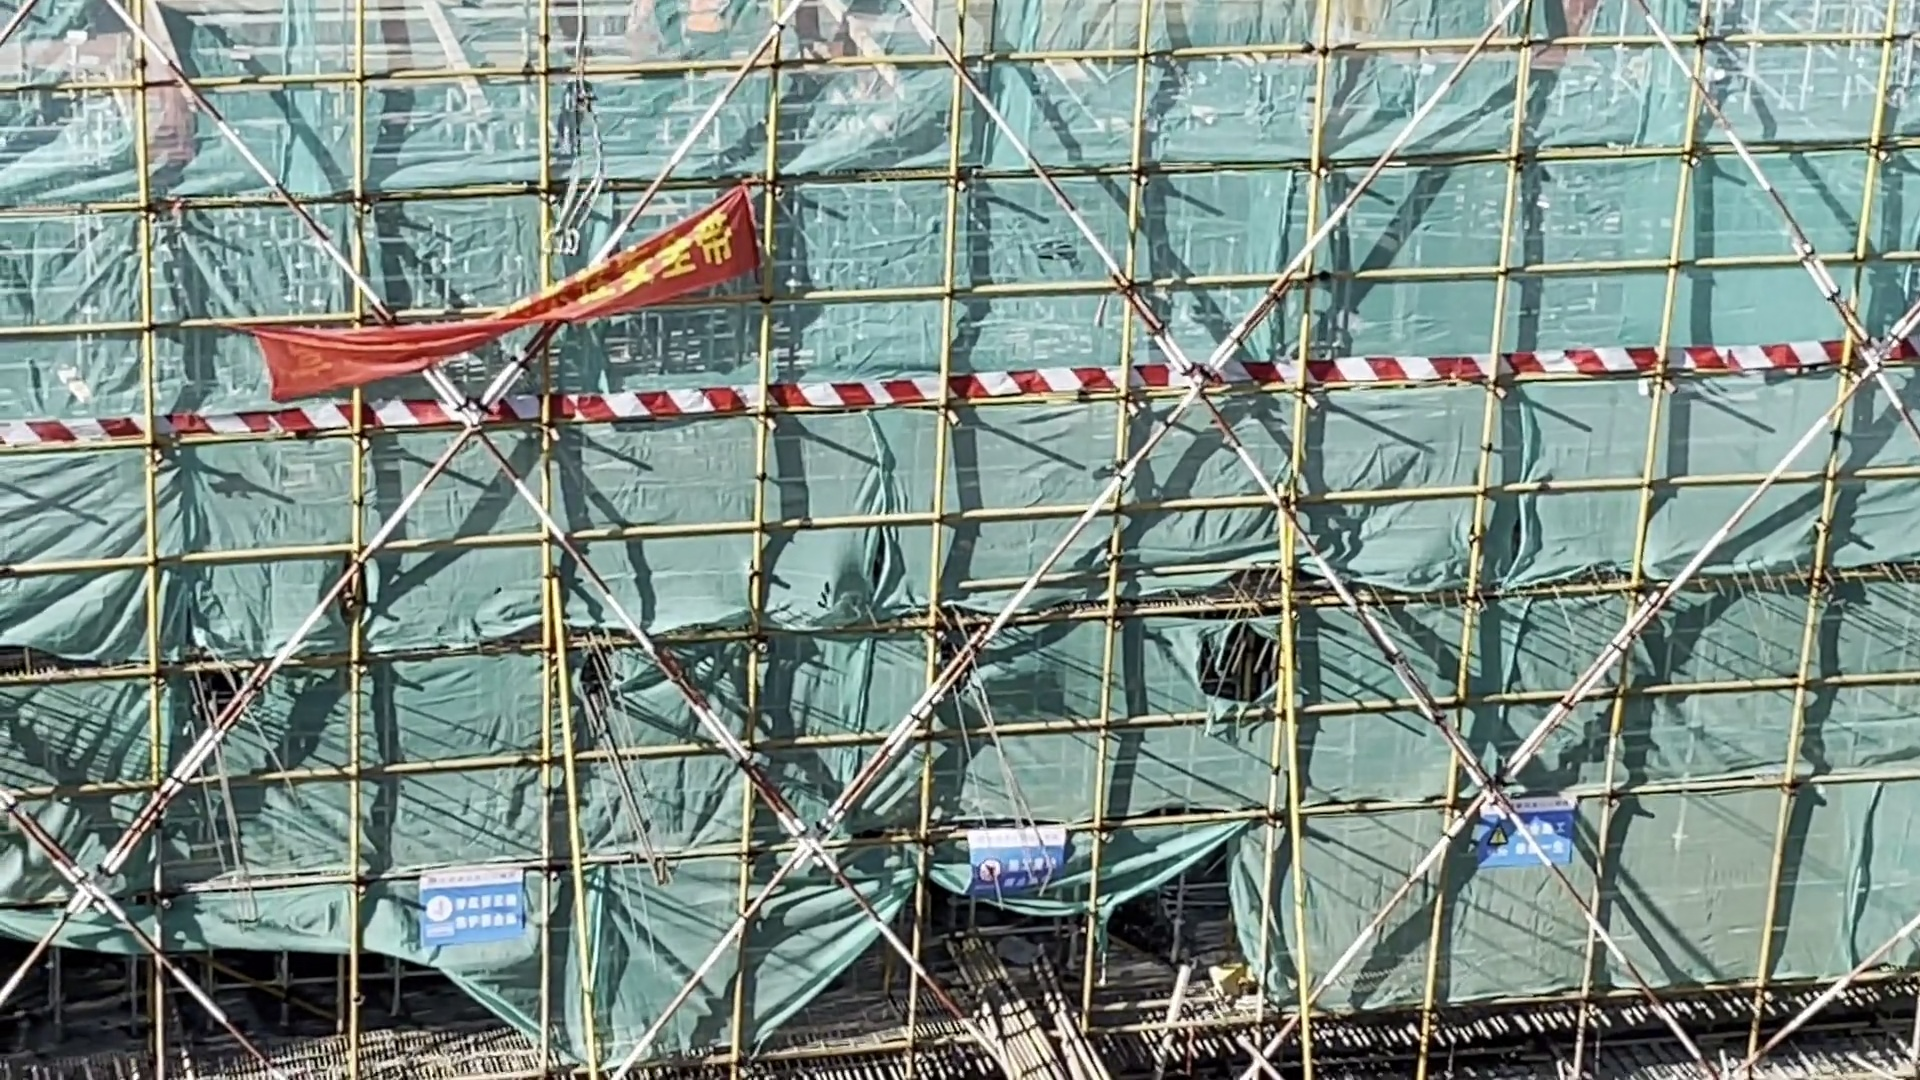slogan: (233, 162, 785, 401), (386, 843, 566, 953), (1441, 769, 1600, 893), (957, 804, 1080, 924)
